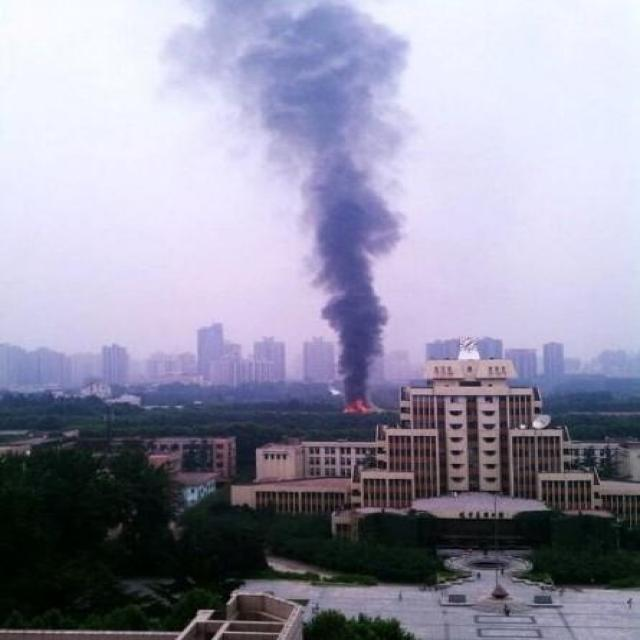Fire: (340, 396, 370, 414)
Smoke: (164, 2, 416, 410)
